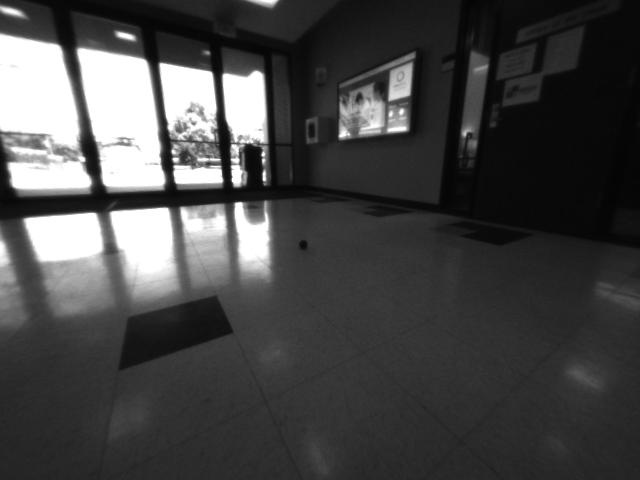dogtoy: (293, 233, 317, 256)
